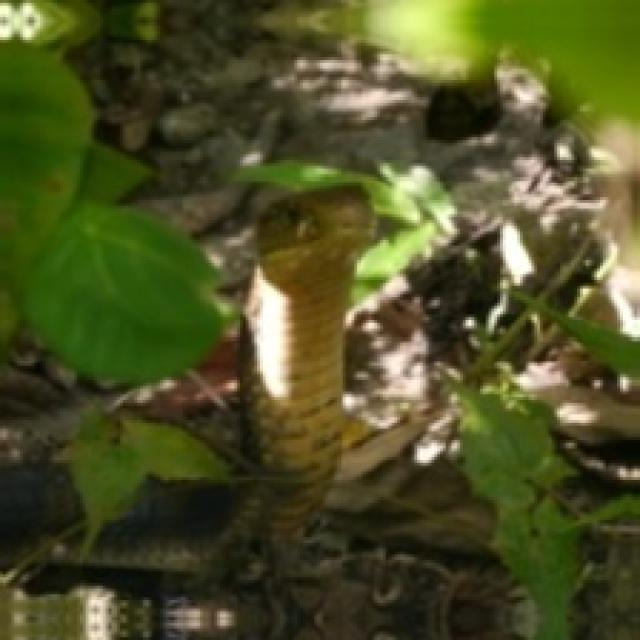king cobra: (2, 190, 374, 588)
